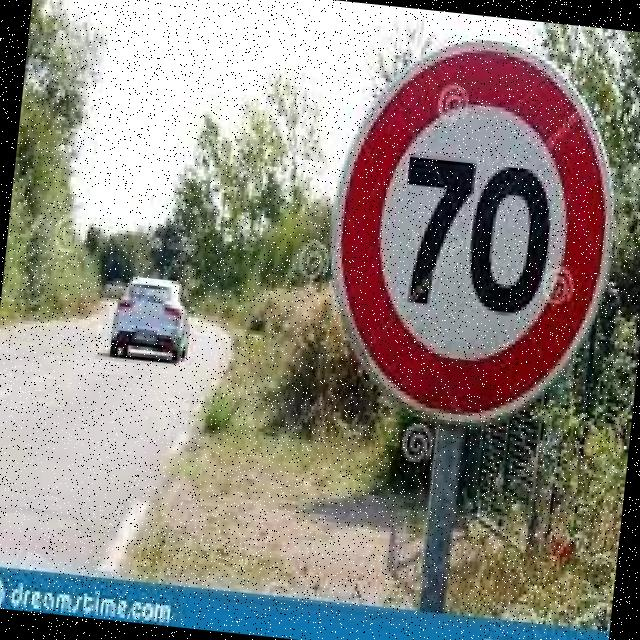speed_limit_70: (308, 21, 636, 438)
